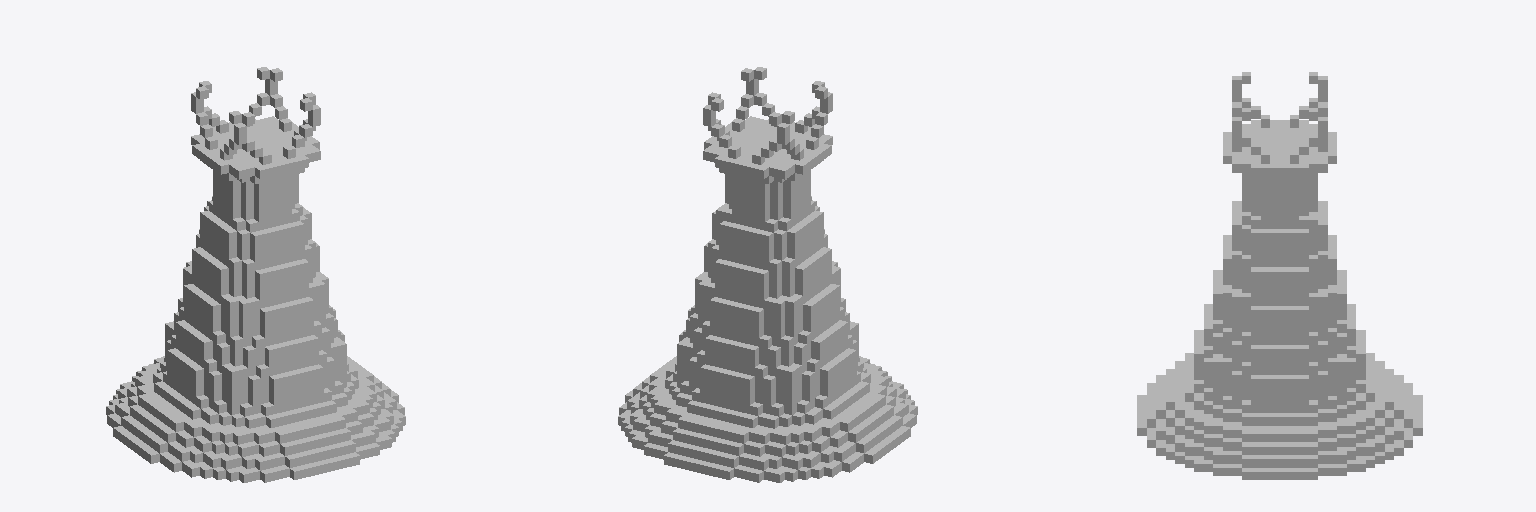
The model's file is Arkanblitzmagier Grundgerüst.obj.
3 renders of one model, left to right at view 1: azimuth 30°, elevation 25°; view 2: azimuth 150°, elevation 25°; view 3: azimuth 270°, elevation 25°, orthographic.
Visible parts, largest first — view 1: Mage Tower ohne Kristall; view 2: Mage Tower ohne Kristall; view 3: Mage Tower ohne Kristall.
Boxes of the visible parts, x1=… form: Mage Tower ohne Kristall: x1=106, y1=67, x2=405, y2=482; Mage Tower ohne Kristall: x1=618, y1=67, x2=917, y2=482; Mage Tower ohne Kristall: x1=1137, y1=72, x2=1422, y2=479.
Bounding box in the file's own units: 30 × 38 × 30.